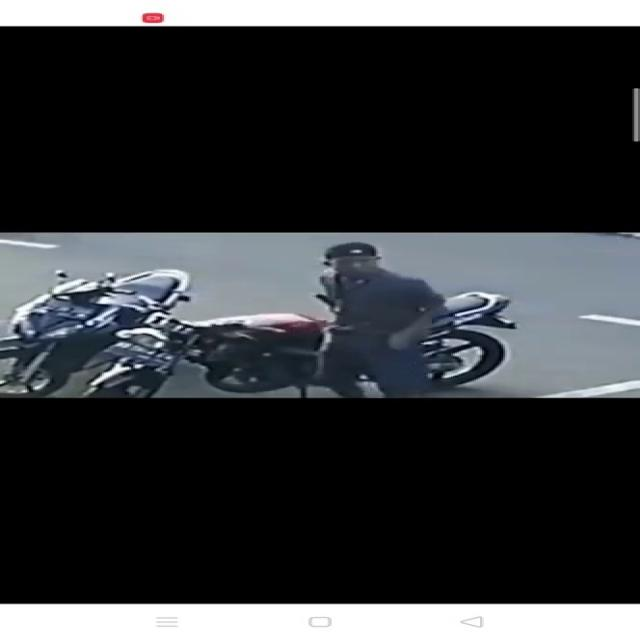pencurian: (100, 242, 498, 396)
